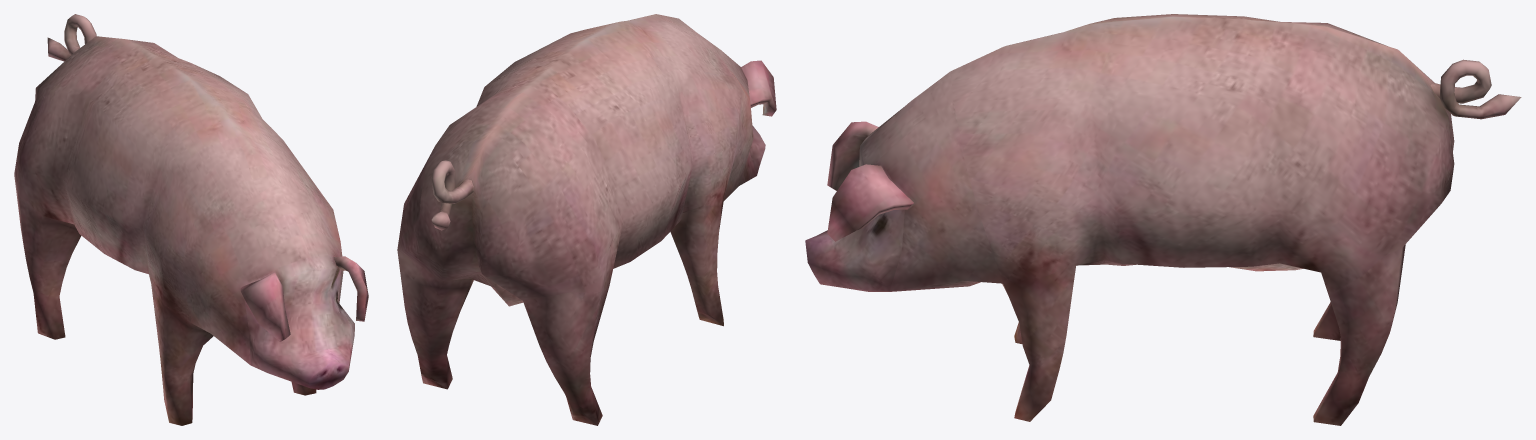
The model's file is cochin.glb.
The picture shows the model from 3 angles, left to right: view 1: azimuth 30°, elevation 25°; view 2: azimuth 150°, elevation 25°; view 3: azimuth 270°, elevation 25°; orthographic projection. The views are drawn at different scales.
Visible parts, largest first — view 1: Cochin; view 2: Cochin; view 3: Cochin.
Part boxes in pixels (x1,y1,x2,y2): Cochin: (14, 14, 368, 425); Cochin: (397, 14, 776, 425); Cochin: (805, 14, 1521, 425).
Size of the model in its own units: 0.9535 by 1.44 by 2.6.
Materials: 1 (1 with a texture image).
